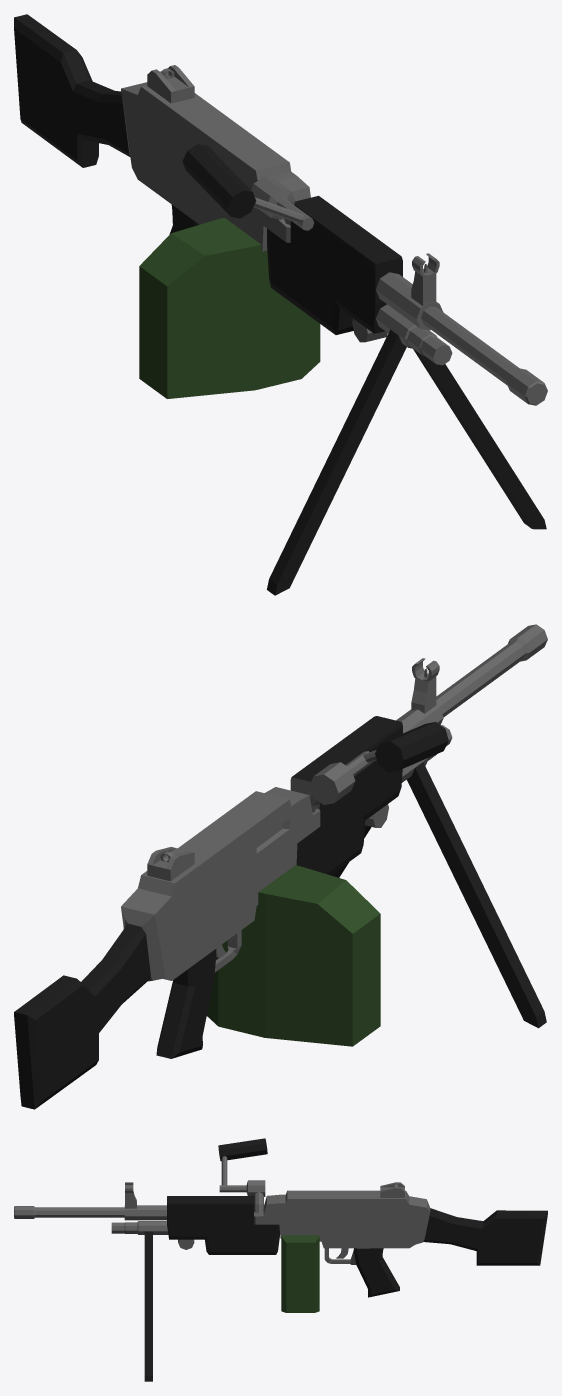
The picture shows the model from 3 angles, top to bottom: view 1: azimuth 30°, elevation 25°; view 2: azimuth 150°, elevation 25°; view 3: azimuth 270°, elevation 25°; orthographic projection. The views are drawn at different scales.
Visible parts, largest first — view 1: Cube, Cube.002; view 2: Cube, Cube.002; view 3: Cube, Cube.002.
Boxes of the visible parts, bbox=[...] form: Cube: bbox=[14, 14, 547, 595]; Cube.002: bbox=[139, 217, 320, 398]; Cube: bbox=[14, 624, 547, 1109]; Cube.002: bbox=[207, 865, 380, 1046]; Cube: bbox=[14, 1138, 547, 1381]; Cube.002: bbox=[281, 1235, 319, 1312].
Size of the model in its own units: 224 by 281 by 738.
